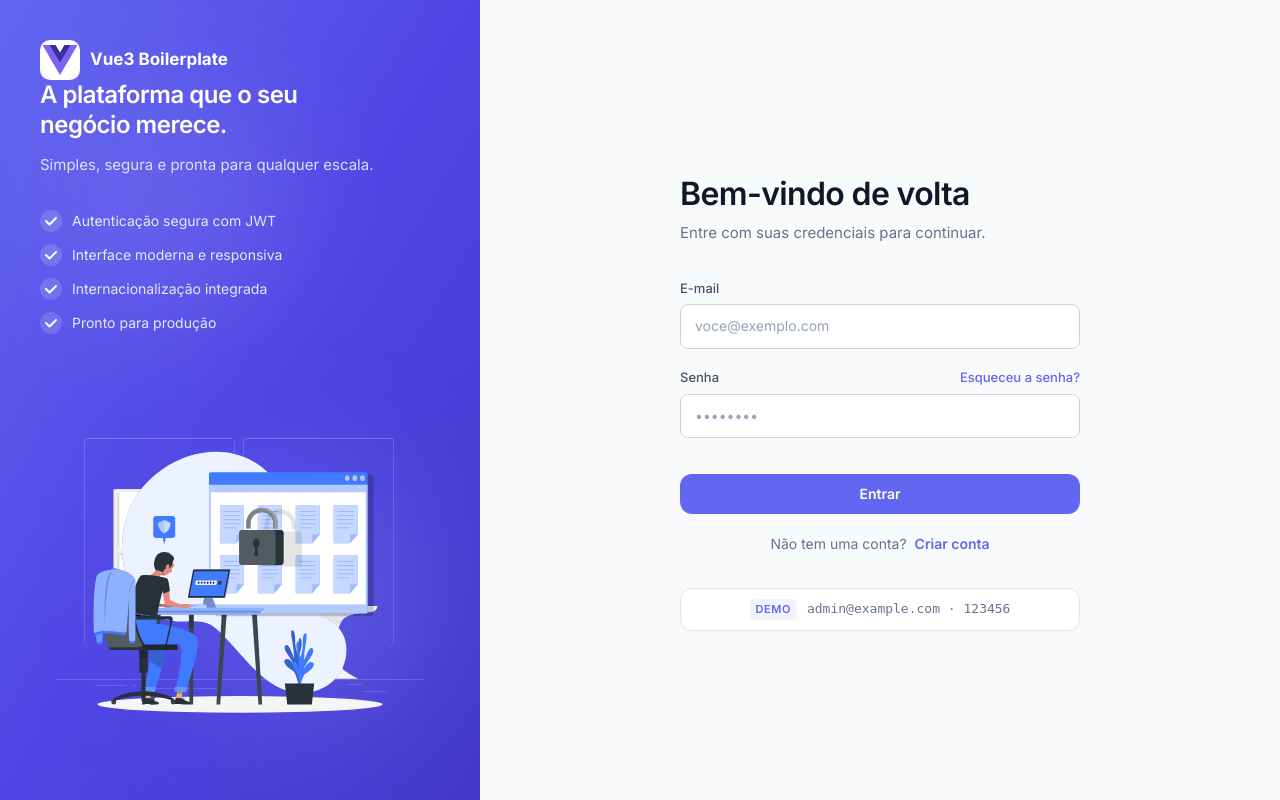
Test: LoginView › exibe alerta quando login falha
The image size is (1280, 800).
In the field with id "email": (880, 327) [680,304,1080,349], type "invalid@example.com"
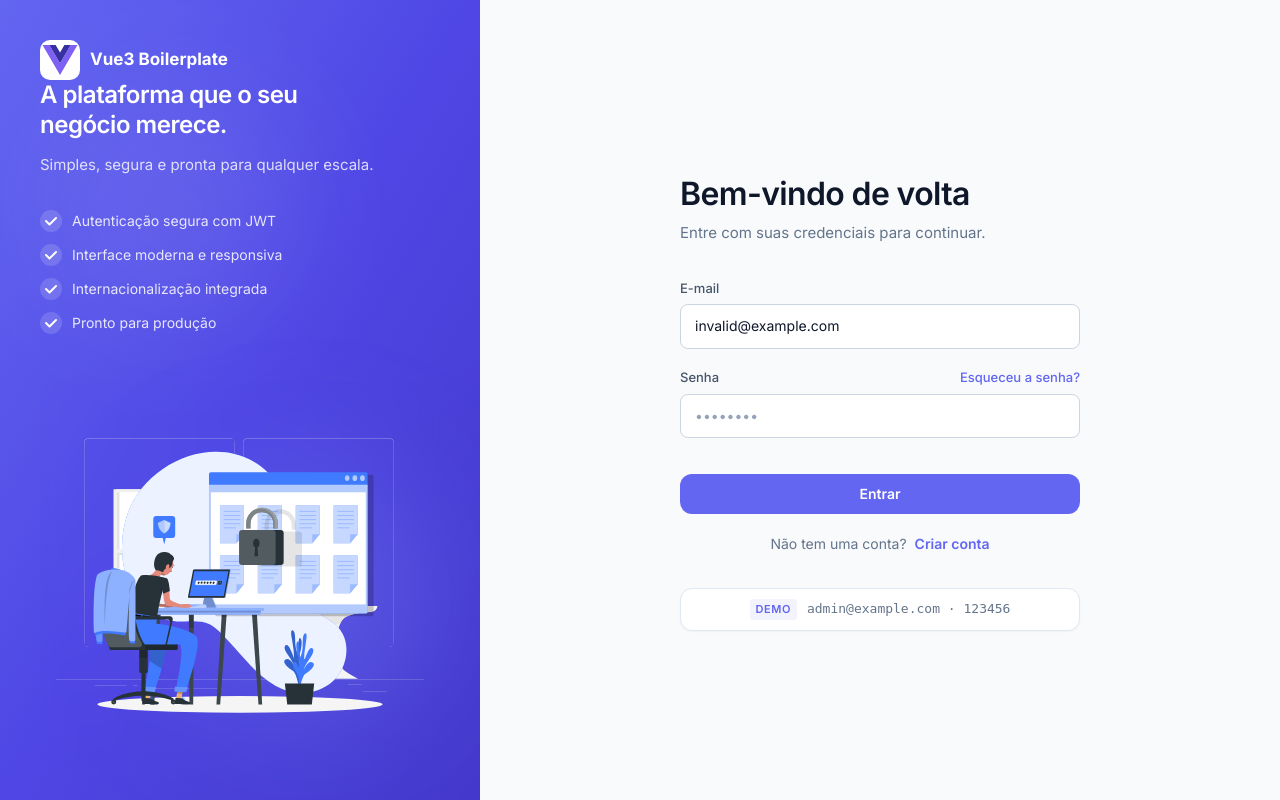
In the password field labelled "Senha": (880, 416) [680,394,1080,438], type "wrongpassword"
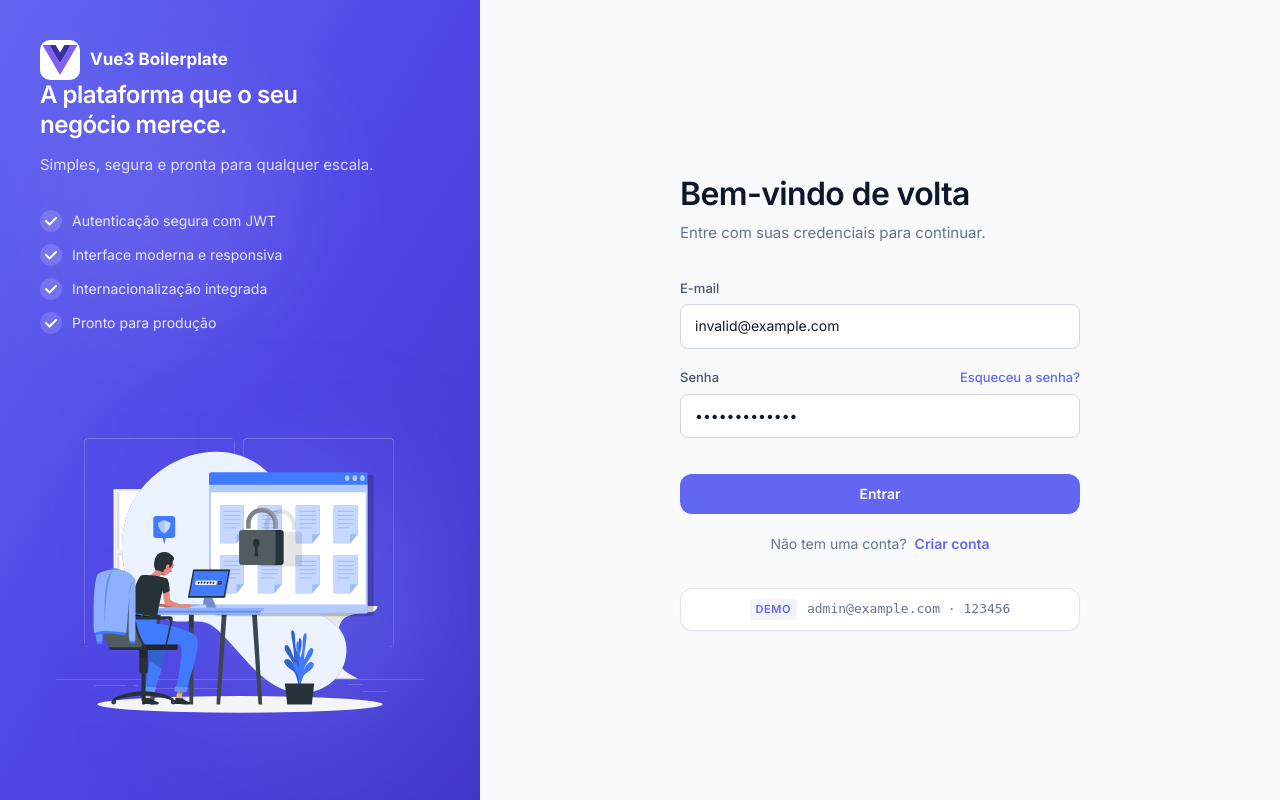
Submit the form, box [680,278,1080,556]
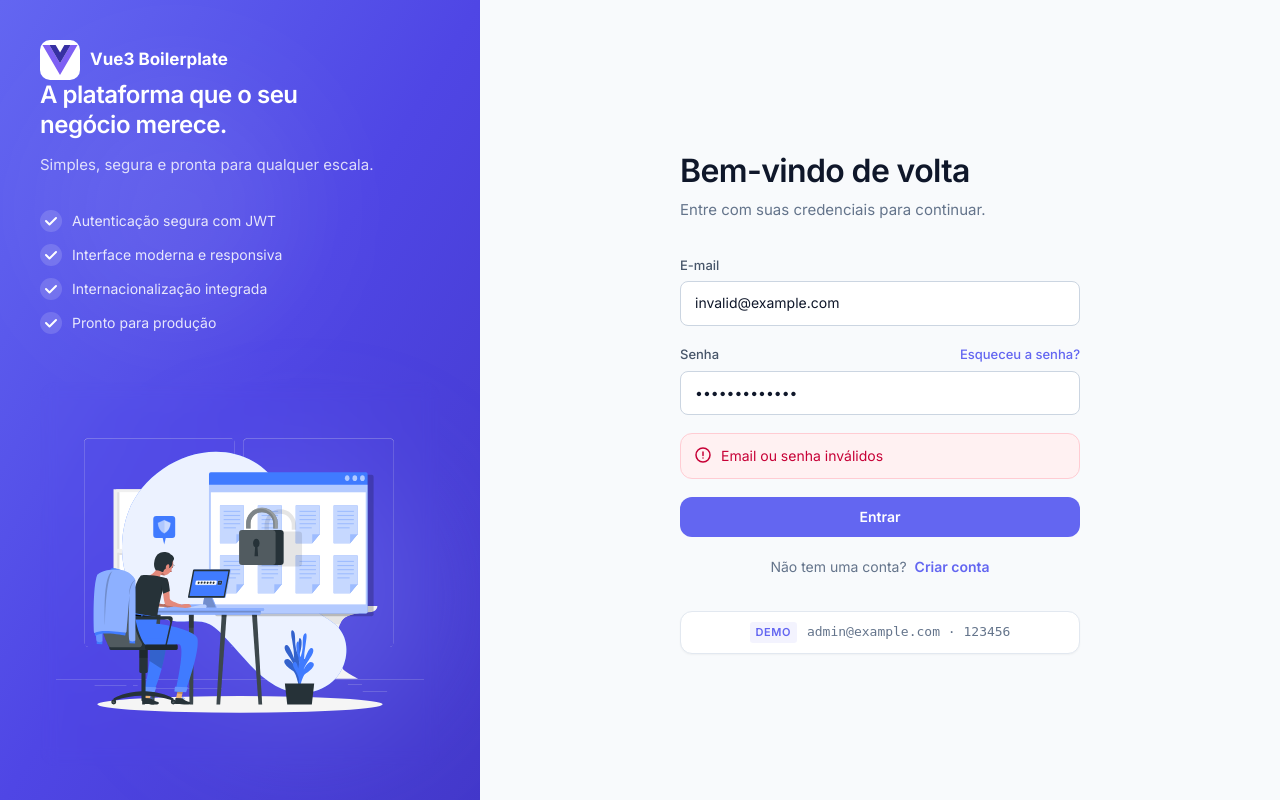
Now the message "Email ou senha inválidos" is shown, box [680,433,1080,479]
